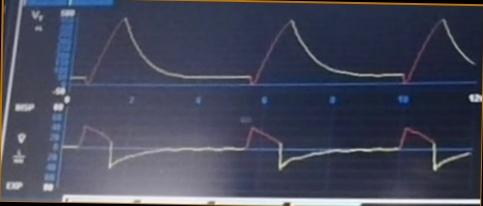Flow: (67, 113, 469, 185)
Leakage Volume: (78, 12, 475, 92)
